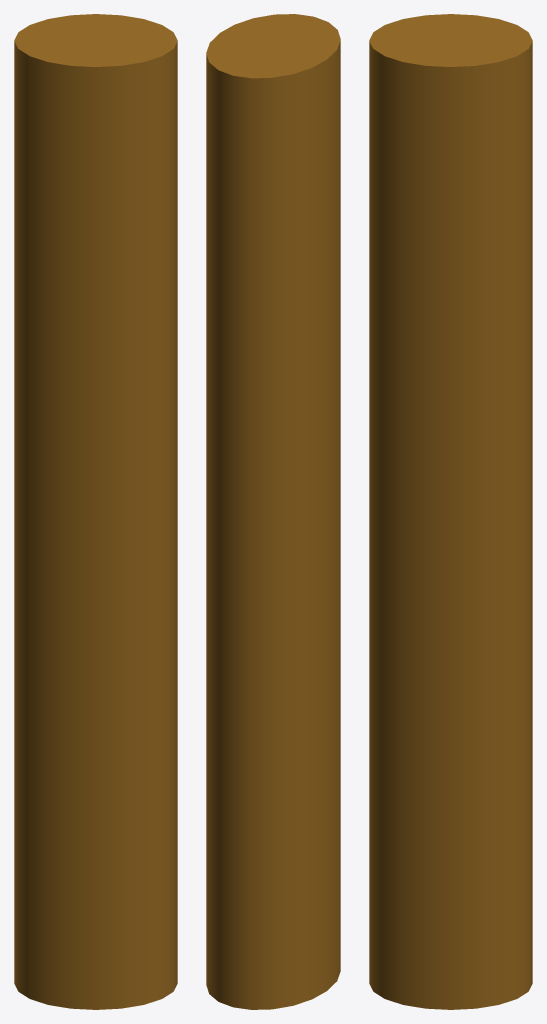
Rendered from Stalk04.fbx.
The picture shows the model from 3 angles, left to right: view 1: azimuth 90°, elevation 25°; view 2: azimuth 150°, elevation 25°; view 3: azimuth 270°, elevation 25°; orthographic projection.
Visible parts, largest first — view 1: polySurface56; view 2: polySurface56; view 3: polySurface56.
Boxes of the visible parts, <box> form: polySurface56: <box>14,14,177,1009</box>; polySurface56: <box>206,14,340,1009</box>; polySurface56: <box>369,14,532,1009</box>.
Bounding box in the file's own units: 0.062 × 0.5127 × 0.0806.
